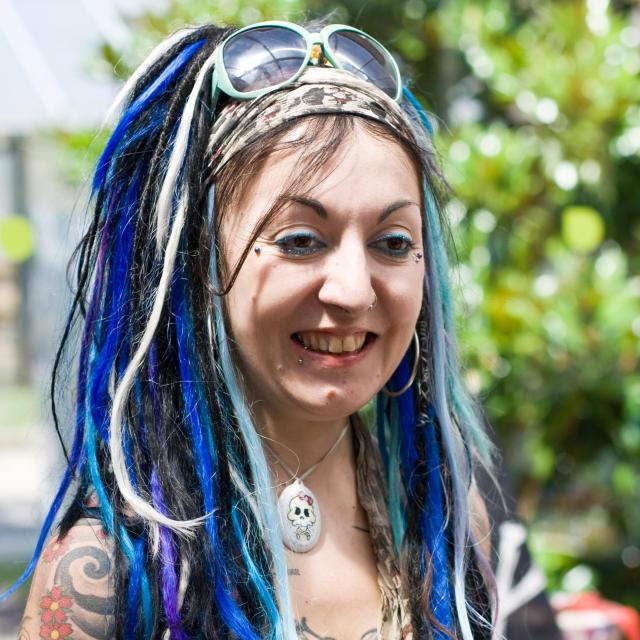no-glass: (261, 225, 415, 261)
